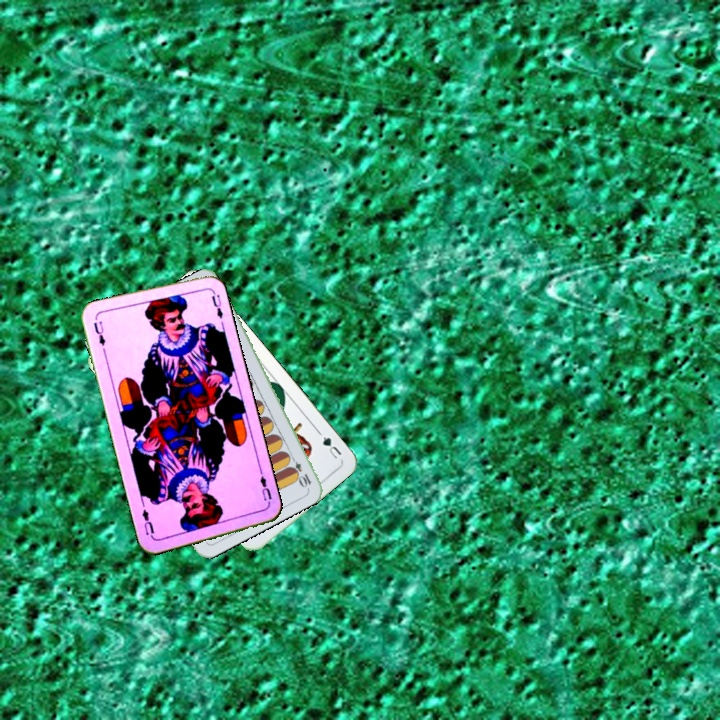E10: (285, 451, 314, 490)
EU: (256, 468, 274, 508), (89, 316, 108, 348)
GU: (314, 427, 344, 462)
